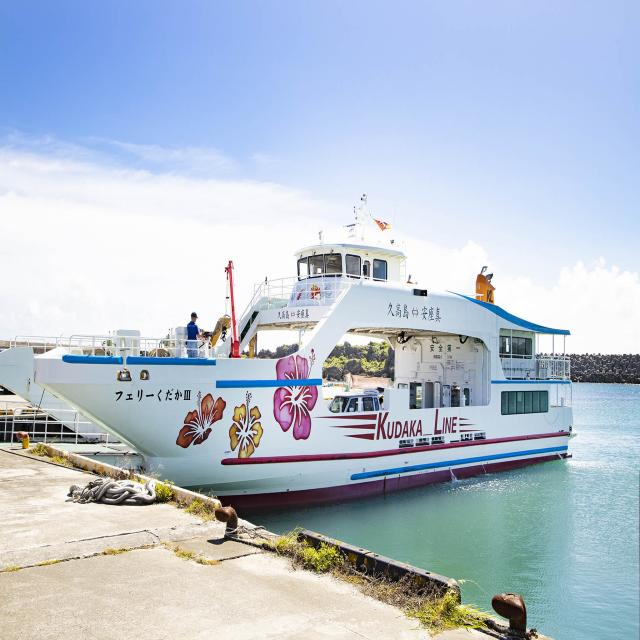boat: (20, 167, 578, 531)
